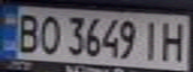3: (63, 14, 87, 56)
4: (100, 16, 121, 58)
6: (81, 15, 103, 57)
9: (118, 17, 142, 60)
B: (9, 10, 42, 54)
H: (157, 17, 190, 62)
I: (139, 17, 166, 61)
O: (33, 11, 63, 55)
